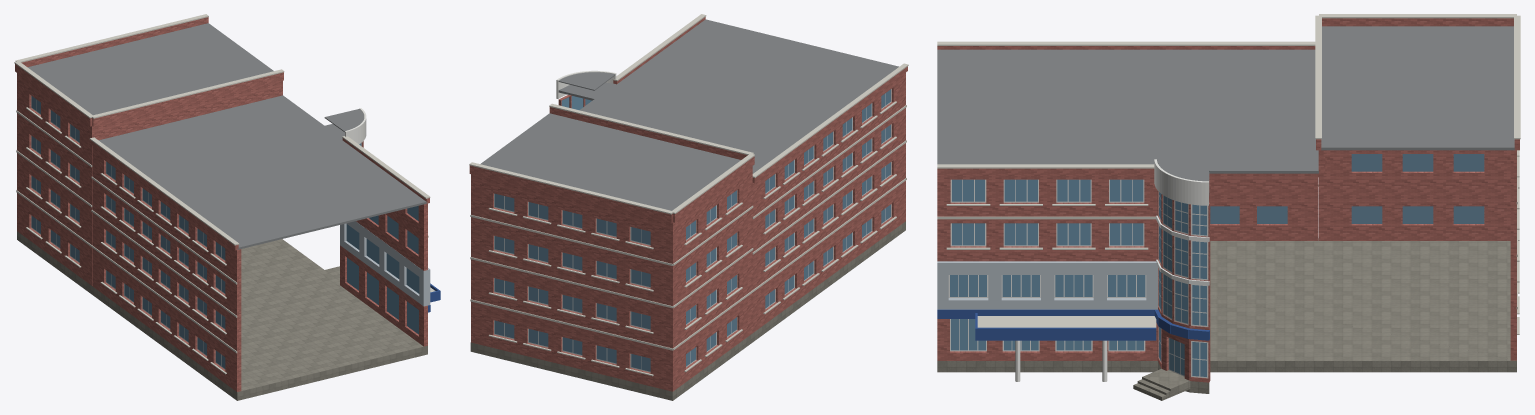
3 renders of one model, left to right at view 1: azimuth 30°, elevation 25°; view 2: azimuth 150°, elevation 25°; view 3: azimuth 270°, elevation 25°, orthographic. The views are drawn at different scales.
Visible parts, largest first — view 1: east__roof, east__rbrick, east__stone, east__cap, east__sideglass, east__glass, east__concrete, east__frame; view 2: east__rbrick, east__roof, east__cap, east__sideglass, east__stone, east__frame; view 3: east__roof, east__rbrick, east__stone, east__glass, east__cap, east__concrete, east__frame, east__navyband, east__sideglass, east__signband, east__stair-front, east__threshold-front.
Part boxes in pixels (x1,y1,x2,y2): east__roof: (28,23,427,249); east__rbrick: (15,17,429,391); east__stone: (17,231,427,400); east__cap: (14,14,435,374); east__sideglass: (31,96,225,368); east__glass: (346,143,419,334); east__concrete: (340,221,430,306); east__frame: (31,96,362,369); east__rbrick: (469,17,907,391); east__roof: (480,19,898,210); east__cap: (469,14,908,376); east__sideglass: (494,89,890,371); east__stone: (470,221,905,400); east__frame: (494,89,891,372); east__roof: (937,26,1514,195); east__rbrick: (937,18,1519,382); east__stone: (937,238,1516,393); east__glass: (950,179,1206,376); east__cap: (937,14,1520,334); east__concrete: (937,261,1157,309); east__frame: (948,179,1209,378); east__navyband: (937,309,1209,340); east__sideglass: (1210,154,1484,223); east__signband: (1154,159,1208,205); east__stair-front: (1133,375,1174,400); east__threshold-front: (1146,369,1190,395).
Size of the model in its own units: 22.95 by 16.06 by 36.23.
Materials: 11 (2 with a texture image).
